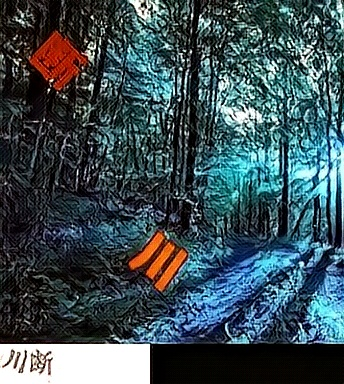B4A8: (123, 231, 188, 295)
B6CF: (26, 31, 91, 95)
